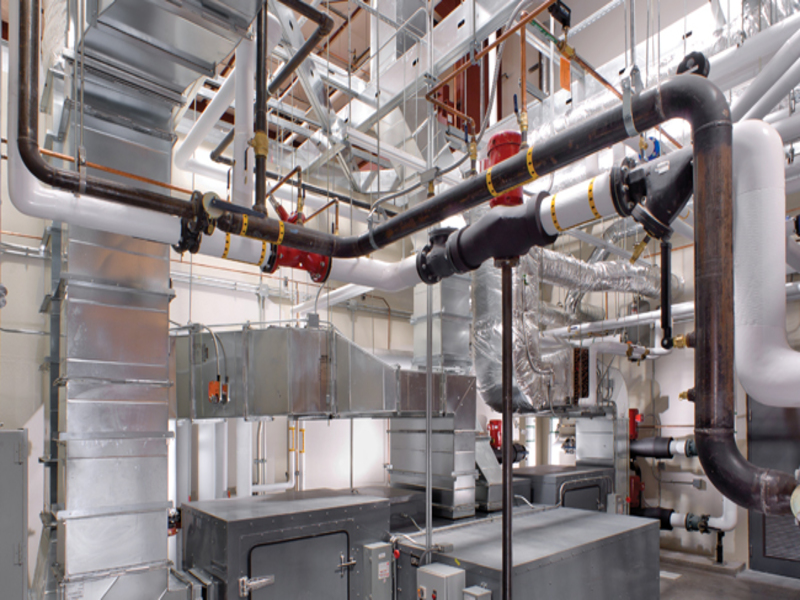valve: (457, 109, 485, 177), (509, 92, 533, 137)
